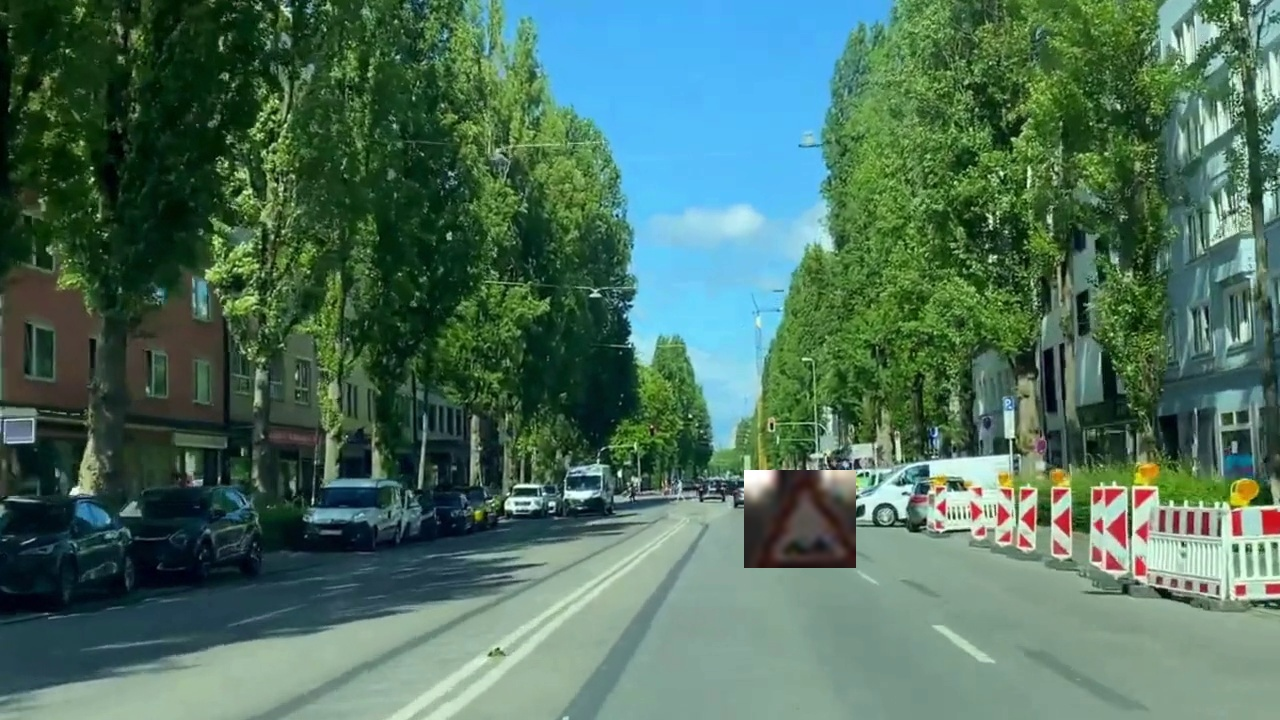Bumpy road: (744, 470, 856, 568)
